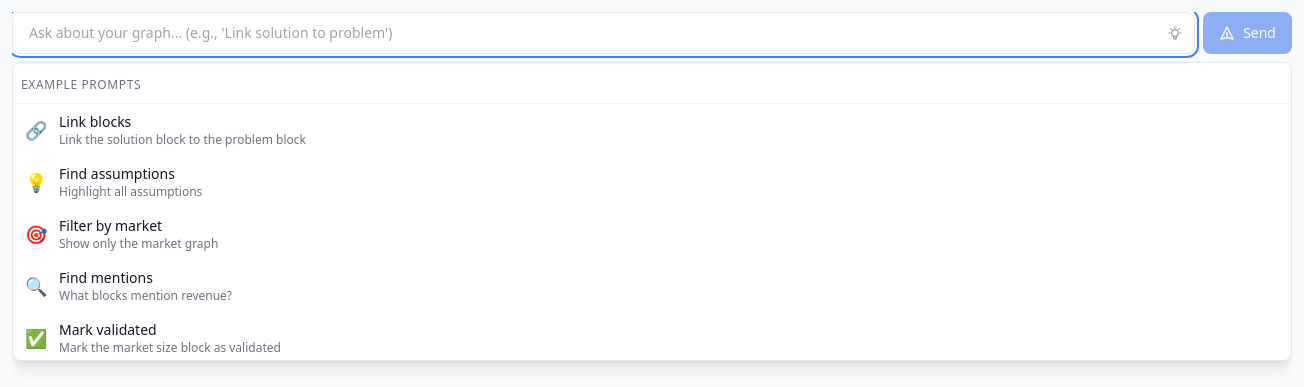
Test: GraphPrompt › T5.1.4: Loading State During Processing › should disable submit button during loading
The image size is (1304, 387).
Type "Test prompt" into the field with test id "graph-prompt-input". click: (604, 33)
box: [12, 12, 1195, 54]
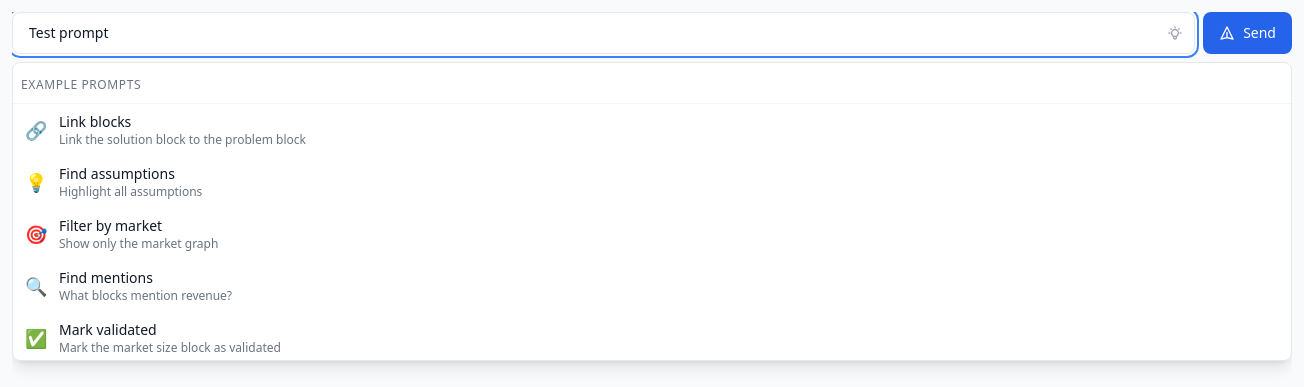
Click the button with test id "graph-prompt-submit". click: (1248, 33)
box: [1203, 12, 1292, 54]
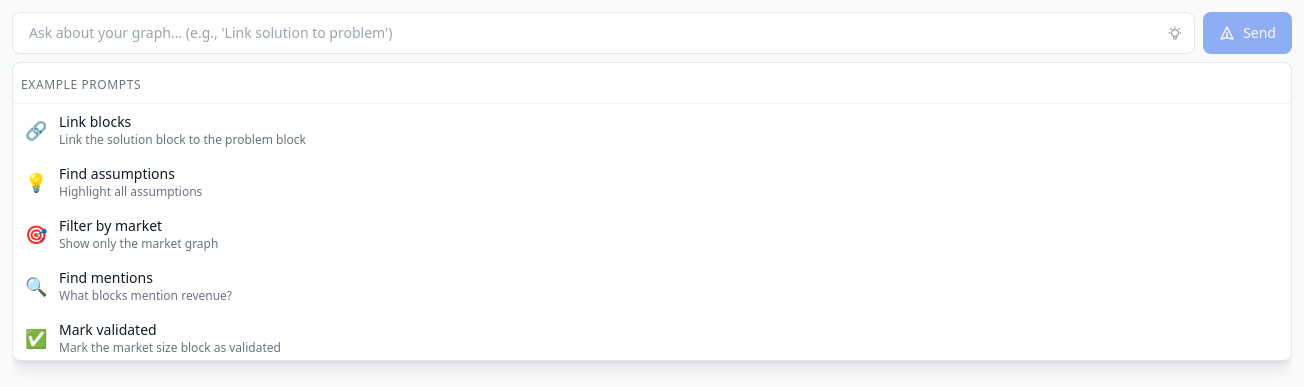
Check: the button with test id "graph-prompt-submit" is disabled, box [1203, 12, 1292, 54]
